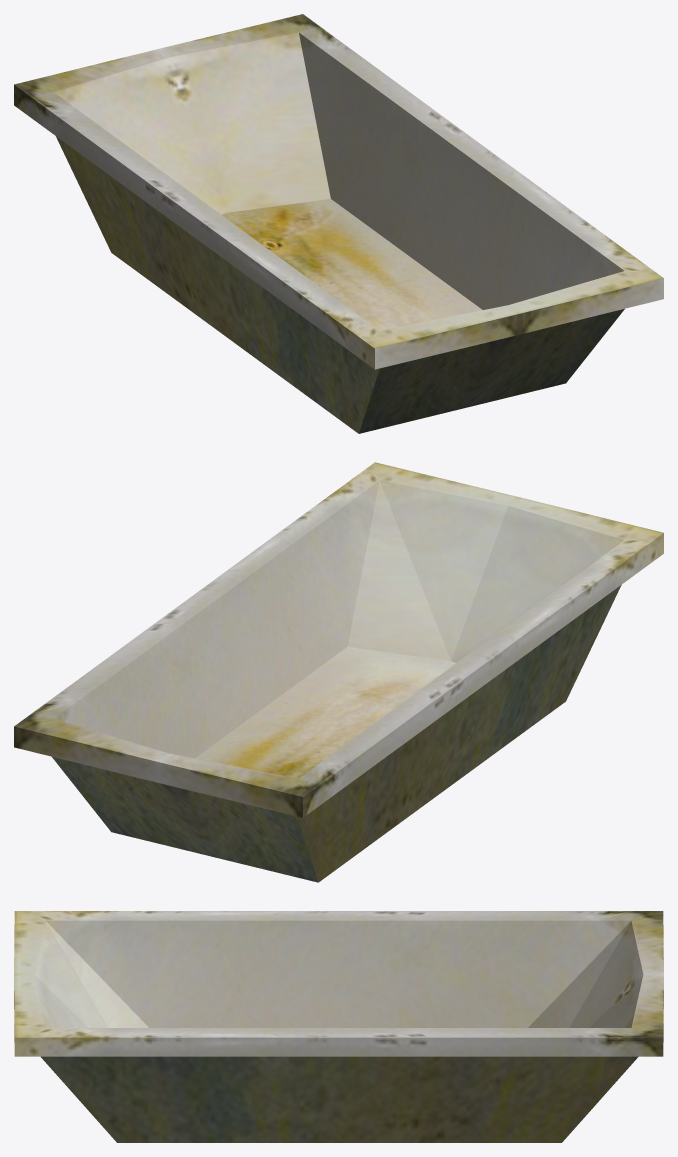
File: Bath.fbx
3 renders of one model, top to bottom at view 1: azimuth 30°, elevation 25°; view 2: azimuth 150°, elevation 25°; view 3: azimuth 270°, elevation 25°, orthographic. The views are drawn at different scales.
Visible parts, largest first — view 1: Bath; view 2: Bath; view 3: Bath.
Part boxes in pixels (bbox=[...]): Bath: bbox=[14, 14, 663, 433]; Bath: bbox=[14, 462, 663, 882]; Bath: bbox=[14, 911, 663, 1142].
Size of the model in its own units: 99.94 by 45.26 by 217.
1 material, 1 textured.
